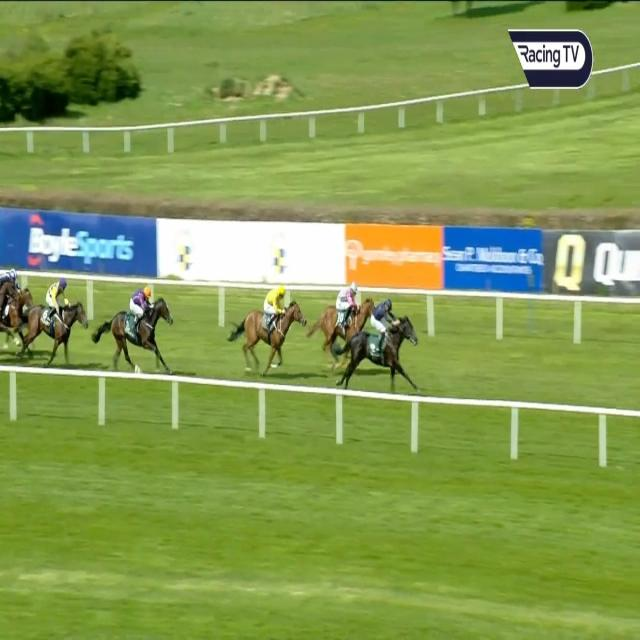horses-racing: (341, 298, 418, 392), (99, 288, 173, 372), (231, 288, 304, 371), (23, 278, 89, 366), (317, 286, 377, 352), (1, 268, 34, 337)
